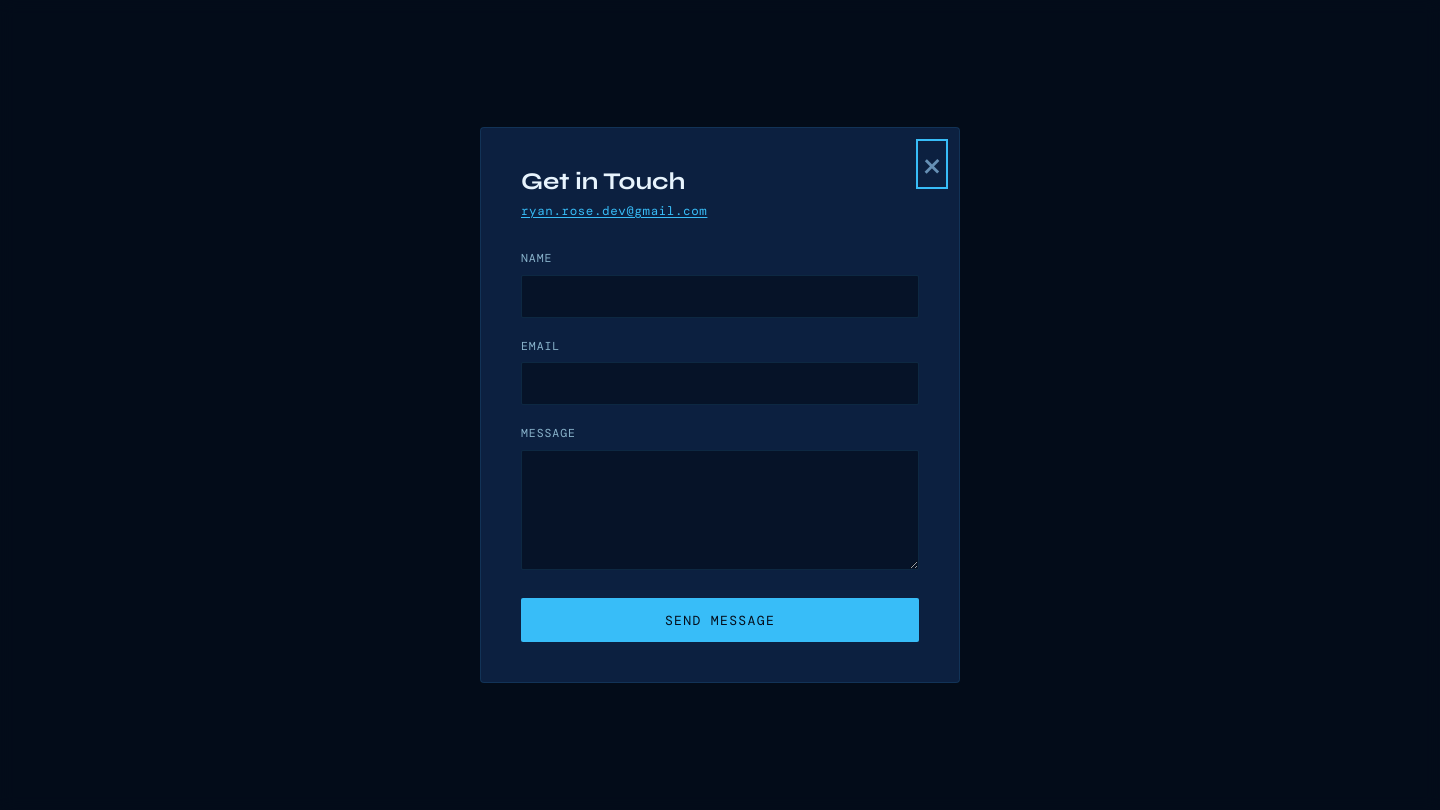
ContactModal › shows an error and does not submit when required fields are empty
Click the button "Send Message": (720, 620) x1=521 y1=598 x2=919 y2=642
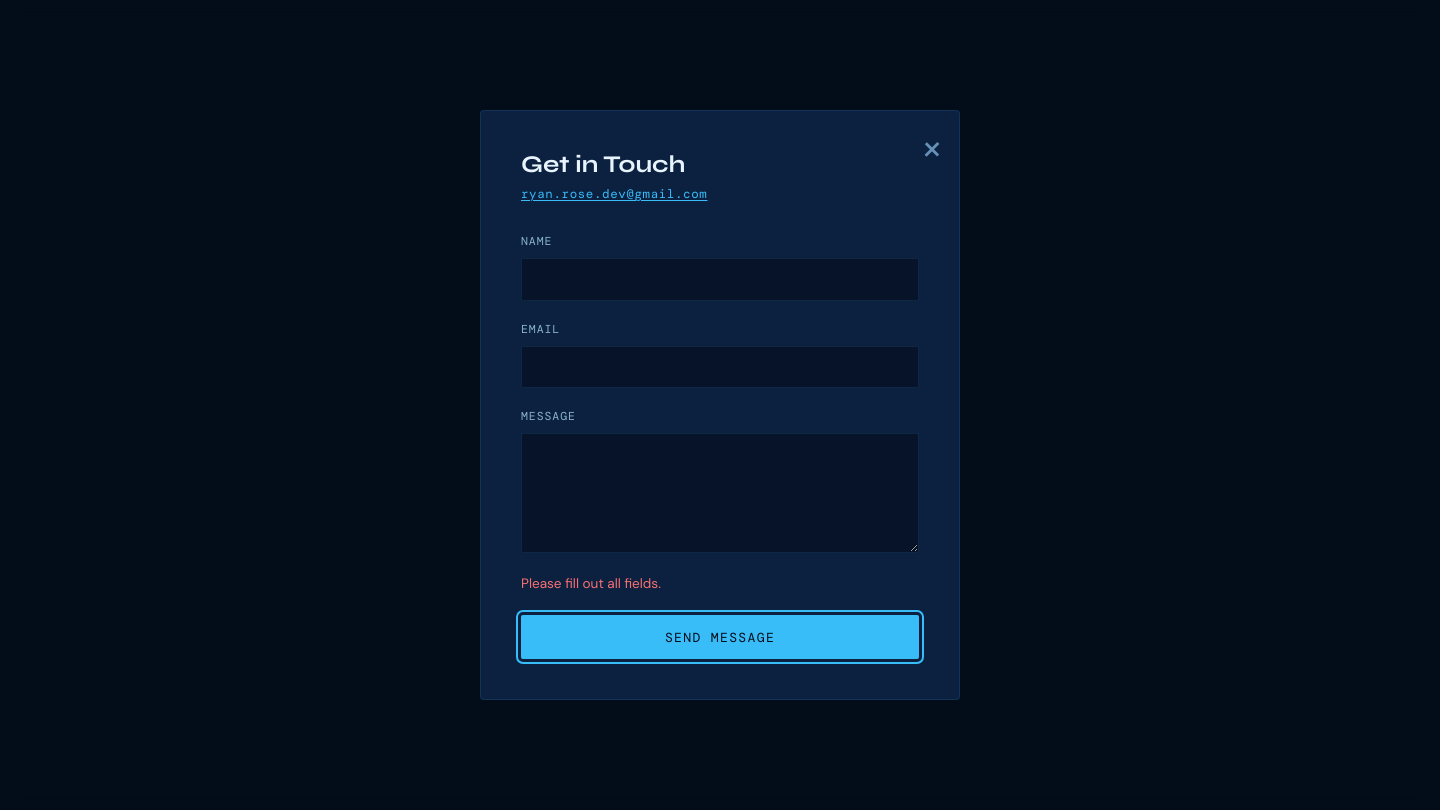
Check: the text "Please fill out all fields." is shown, box x1=521 y1=575 x2=661 y2=592
